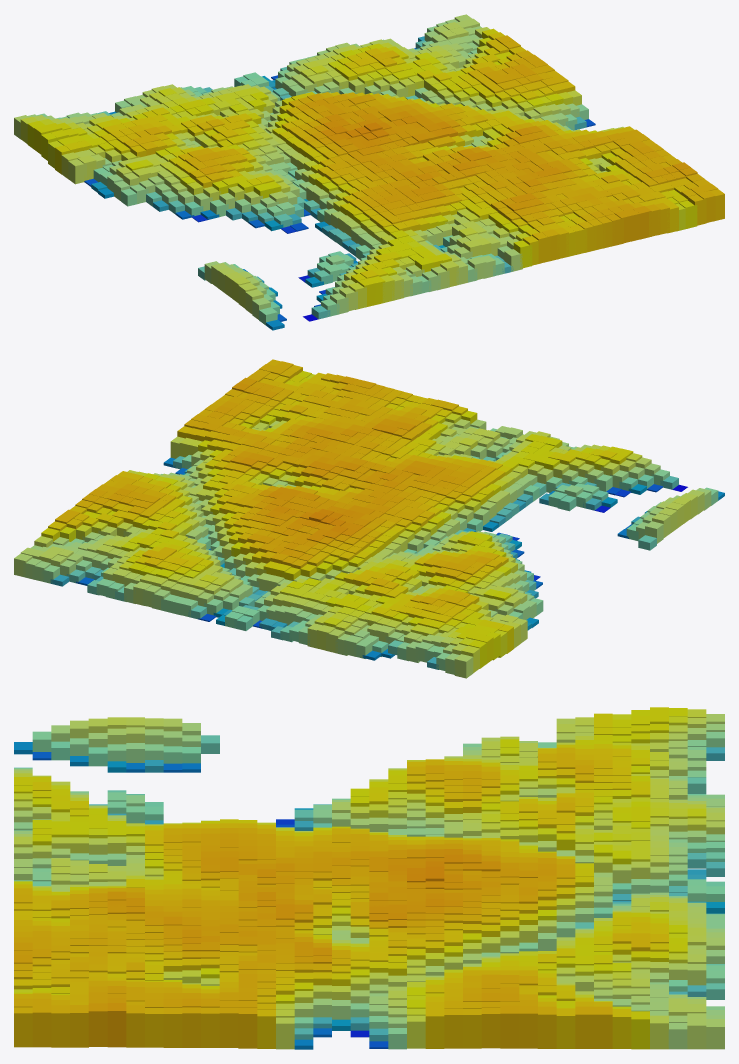
Rendered from population.glb.
The picture shows the model from 3 angles, top to bottom: view 1: azimuth 30°, elevation 25°; view 2: azimuth 150°, elevation 25°; view 3: azimuth 270°, elevation 25°; orthographic projection. The views are drawn at different scales.
Parts seen in each view (by area): view 1: population; view 2: population; view 3: population.
Part boxes in pixels (x1,y1,x2,y2): population: (14, 14, 724, 330); population: (14, 359, 724, 678); population: (14, 707, 724, 1049).
Bounding box in the file's own units: 3828 × 245 × 3791.
